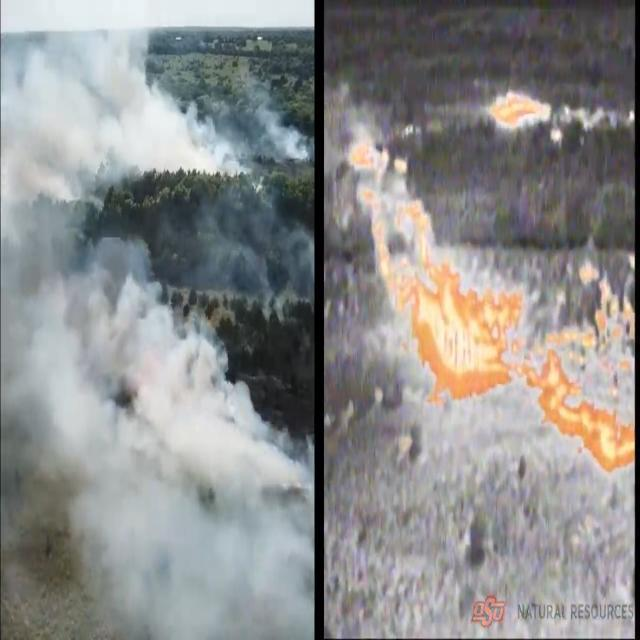fire: (350, 137, 524, 405), (525, 266, 635, 474), (491, 86, 568, 150)
